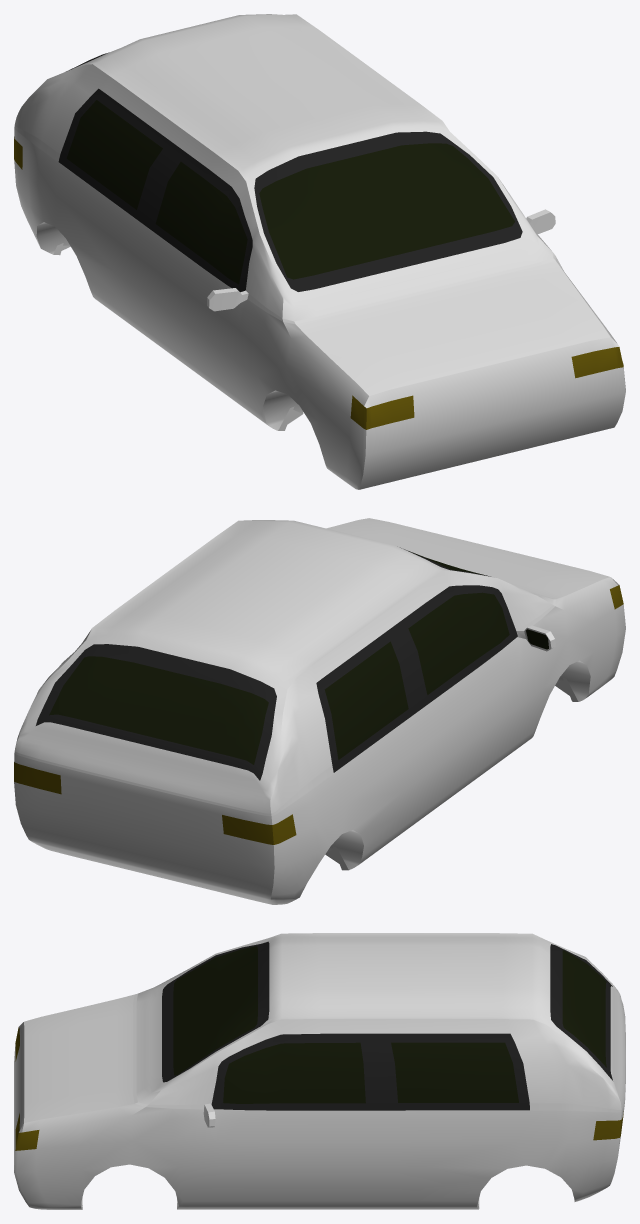
File: car.fbx
The picture shows the model from 3 angles, top to bottom: view 1: azimuth 30°, elevation 25°; view 2: azimuth 150°, elevation 25°; view 3: azimuth 270°, elevation 25°; orthographic projection. The views are drawn at different scales.
Visible parts, largest first — view 1: Cube; view 2: Cube; view 3: Cube.
Part boxes in pixels (<box>): Cube: <box>14,14,625,489</box>; Cube: <box>14,518,625,904</box>; Cube: <box>14,933,625,1209</box>.
Size of the model in its own units: 213 by 131 by 377.
